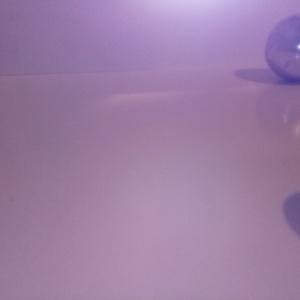alive_ball: (264, 12, 300, 81)
